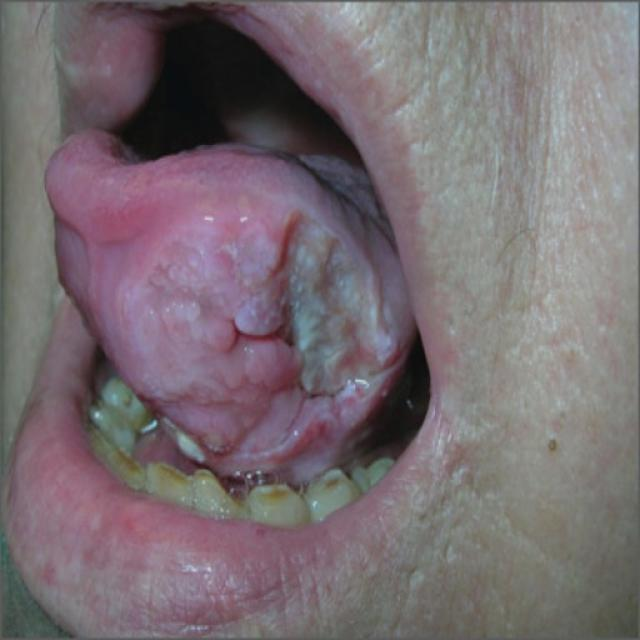cancer-detection: (98, 189, 413, 471)
processing_area: (43, 13, 413, 478)
